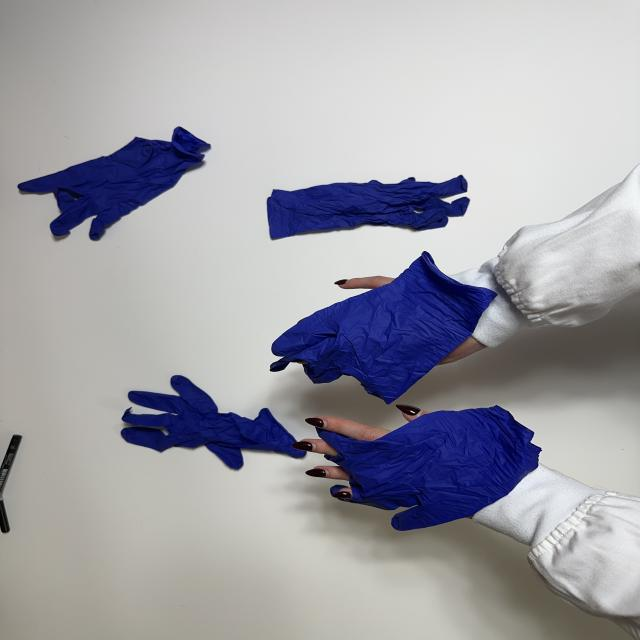glove_not_fitted: (266, 252, 504, 406), (295, 403, 545, 533)
